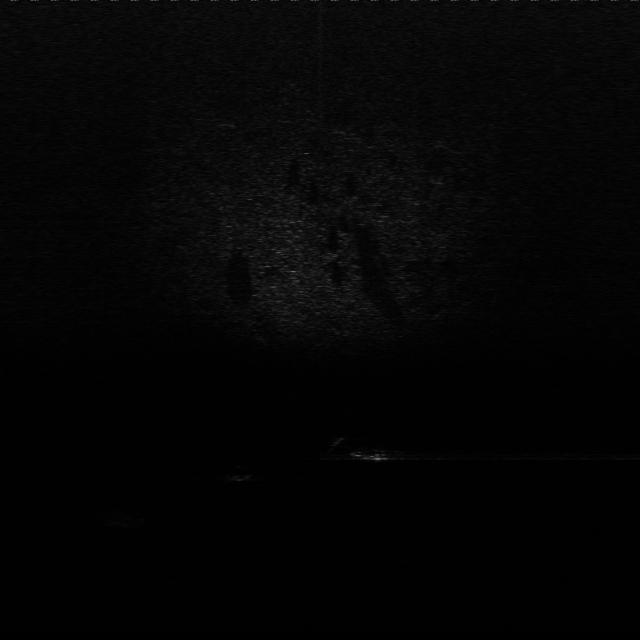ball: (227, 464, 254, 484)
human body: (323, 436, 468, 468)
